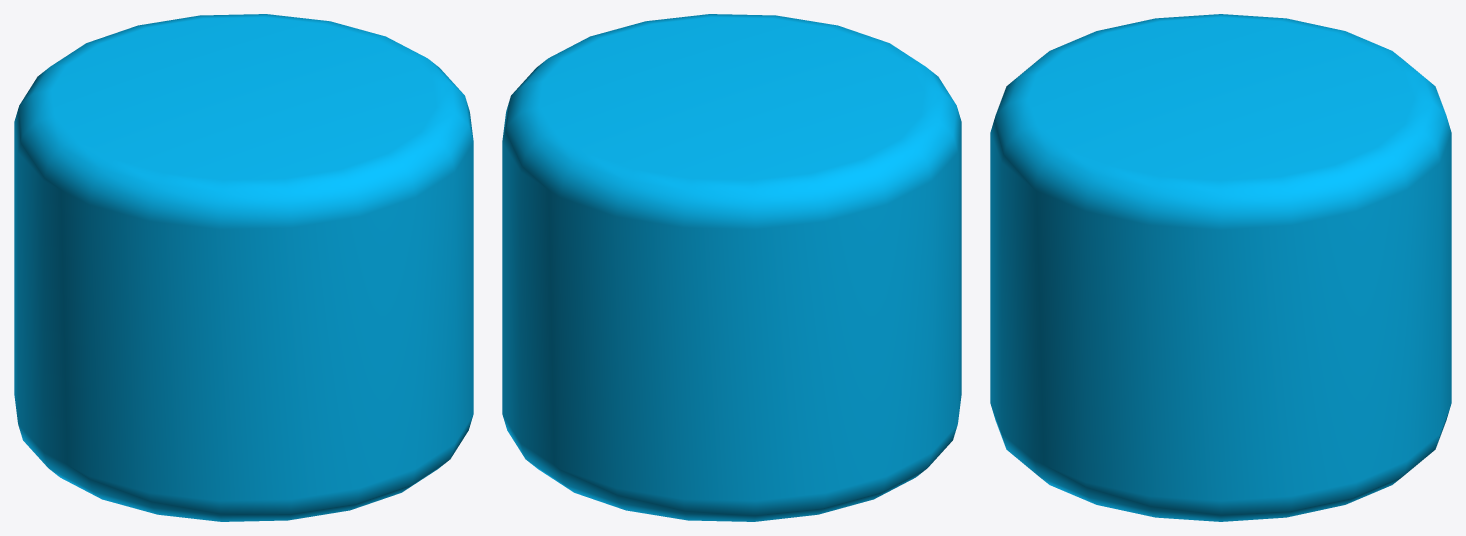
The model's file is Module_Stand.fbx.
3 renders of one model, left to right at view 1: azimuth 30°, elevation 25°; view 2: azimuth 150°, elevation 25°; view 3: azimuth 270°, elevation 25°, orthographic.
Visible parts, largest first — view 1: Module_Stand; view 2: Module_Stand; view 3: Module_Stand.
Boxes of the visible parts, left/top/right/bottom form: Module_Stand: left=14, top=14, right=473, bottom=521; Module_Stand: left=502, top=14, right=961, bottom=521; Module_Stand: left=990, top=14, right=1451, bottom=521.
Bounding box in the file's own units: 93.42 × 75.55 × 93.42.
